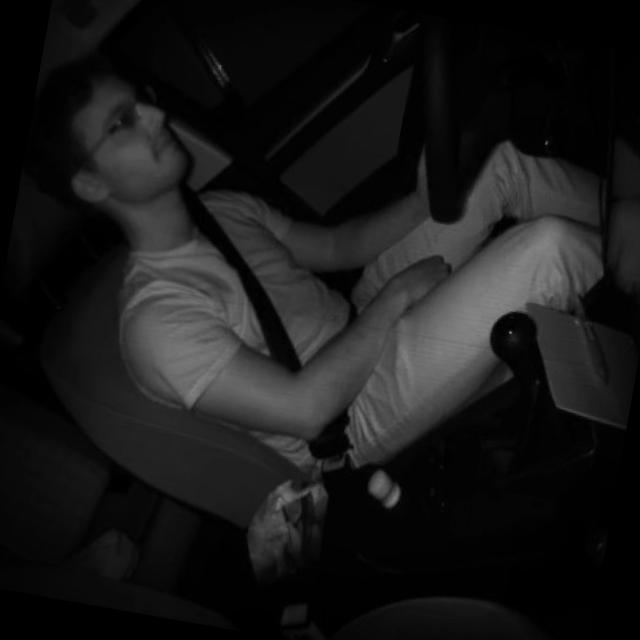pen: (554, 288, 626, 389)
